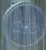bike lane: (3, 3, 45, 44)
